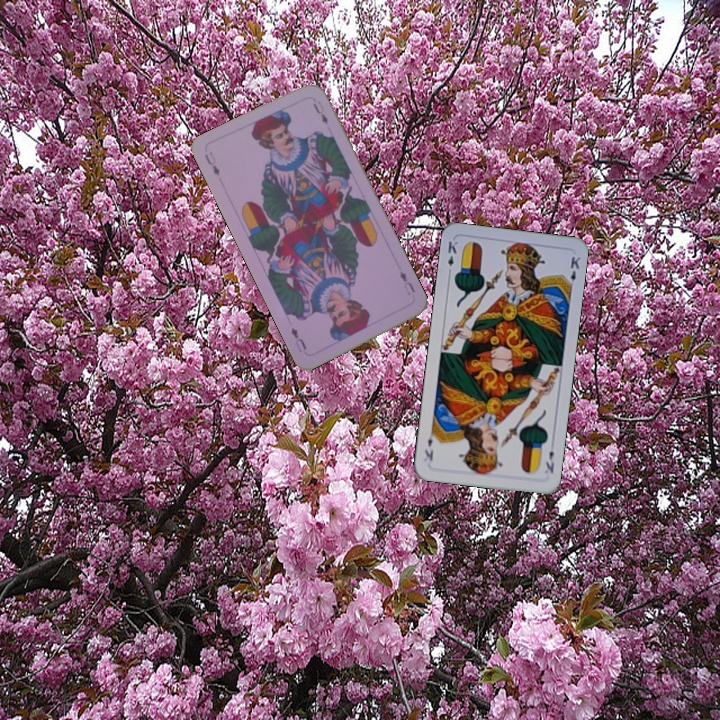EK: (444, 237, 460, 277), (541, 447, 557, 476)
EU: (396, 267, 418, 298), (201, 148, 222, 179)
